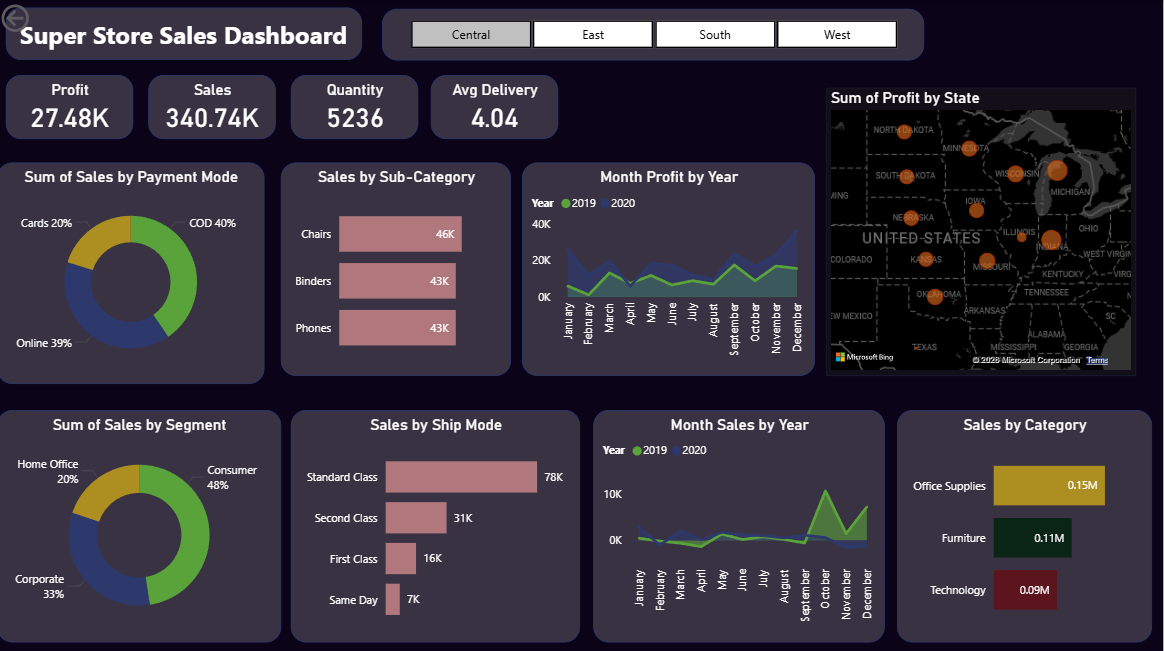

What the dashboard file says about the page in this screenshot:
{"tool":"powerbi","page":{"name":"Page 1","canvas":[1280,720],"ordinal":0},"visuals":[{"type":"clusteredBarChart","title":" Sales by Category","fields":{"Category":["Sheet1.Category"],"Y":["Sum(Sheet1.Sales)"]},"box":[987.7,450.3,279.8,255.2],"z":0},{"type":"clusteredBarChart","title":" Sales by Sub-Category","fields":{"Category":["Sheet1.Sub-Category"],"Y":["Sum(Sheet1.Sales)"]},"box":[311.7,177.9,252.8,234.4],"z":1000},{"type":"clusteredBarChart","title":" Sales by Ship Mode","fields":{"Category":["Sheet1.Ship Mode"],"Y":["Sum(Sheet1.Sales)"]},"box":[322.7,450.3,317.8,255.2],"z":2000},{"type":"areaChart","title":" Month Profit by Year","fields":{"Y":["Sum(Sheet1.Sales)"],"Category":["Sheet1.Order Date.Variation.Date Hierarchy.Month"],"Series":["Sheet1.Order Date.Variation.Date Hierarchy.Year"]},"box":[576.7,177.9,321.5,234.4],"z":3000},{"type":"areaChart","title":" Month Sales by Year","fields":{"Category":["Sheet1.Order Date.Variation.Date Hierarchy.Month"],"Series":["Sheet1.Order Date.Variation.Date Hierarchy.Year"],"Y":["Sum(Sheet1.Profit)"]},"box":[654,450.3,320.2,255.2],"z":4000},{"type":"map","fields":{"Category":["Sheet1.State"],"Size":["Sum(Sheet1.Profit)"]},"box":[909.2,95.7,341.1,316.6],"z":5000},{"type":"donutChart","fields":{"Category":["Sheet1.Segment"],"Y":["Sum(Sheet1.Sales)"]},"box":[0,450.3,311.7,255.2],"z":6000},{"type":"donutChart","fields":{"Y":["Sum(Sheet1.Sales)"],"Category":["Sheet1.Payment Mode"]},"box":[0,177.9,293.3,242.9],"z":7000},{"type":"slicer","fields":{"Values":["Sheet1.Region"]},"box":[422.2,10,595.6,56.7],"z":8000},{"type":"textbox","box":[10,8.9,391.1,57.8],"z":9000},{"type":"card","title":"Profit","fields":{"Values":["Sum(Sheet1.Profit)"]},"box":[10,82.2,140,70],"z":10000},{"type":"card","title":"Sales","fields":{"Values":["Sum(Sheet1.Sales)"]},"box":[165.6,82.2,140,70],"z":11000},{"type":"card","title":"Quantity","fields":{"Values":["Sum(Sheet1.Quantity)"]},"box":[322.2,82.2,140,70],"z":12000},{"type":"card","title":"Avg Delivery","fields":{"Values":["Avg(Super sales Store.AvgDelivery)"]},"box":[475.6,82.2,140,70],"z":13000},{"type":"actionButton","box":[0,0,100,40],"z":14000}]}

Visuals, with their boxes in screenshot pixels (x1, y1, x2, y2), scaled from the page's 1280x720 canvas onto the 1164x651 screenshot:
" Sales by Category" clusteredBarChart: x1=898, y1=407, x2=1153, y2=638
" Sales by Sub-Category" clusteredBarChart: x1=283, y1=161, x2=513, y2=373
" Sales by Ship Mode" clusteredBarChart: x1=293, y1=407, x2=582, y2=638
" Month Profit by Year" areaChart: x1=524, y1=161, x2=817, y2=373
" Month Sales by Year" areaChart: x1=595, y1=407, x2=886, y2=638
map - Sheet1.State x Sum(Sheet1.Profit): x1=827, y1=87, x2=1137, y2=373
donutChart - Sheet1.Segment x Sum(Sheet1.Sales): x1=0, y1=407, x2=283, y2=638
donutChart - Sum(Sheet1.Sales) x Sheet1.Payment Mode: x1=0, y1=161, x2=267, y2=380
slicer - Sheet1.Region: x1=384, y1=9, x2=926, y2=60
textbox: x1=9, y1=8, x2=365, y2=60
"Profit" card: x1=9, y1=74, x2=136, y2=138
"Sales" card: x1=151, y1=74, x2=278, y2=138
"Quantity" card: x1=293, y1=74, x2=420, y2=138
"Avg Delivery" card: x1=432, y1=74, x2=560, y2=138
actionButton: x1=0, y1=0, x2=91, y2=36
